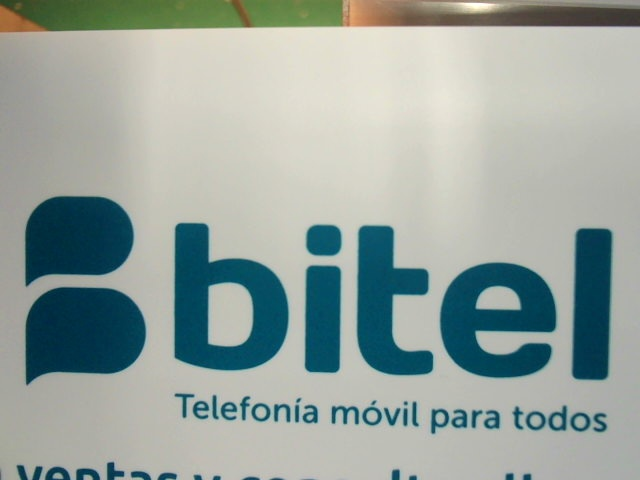BE_bitel: (11, 193, 611, 387)
